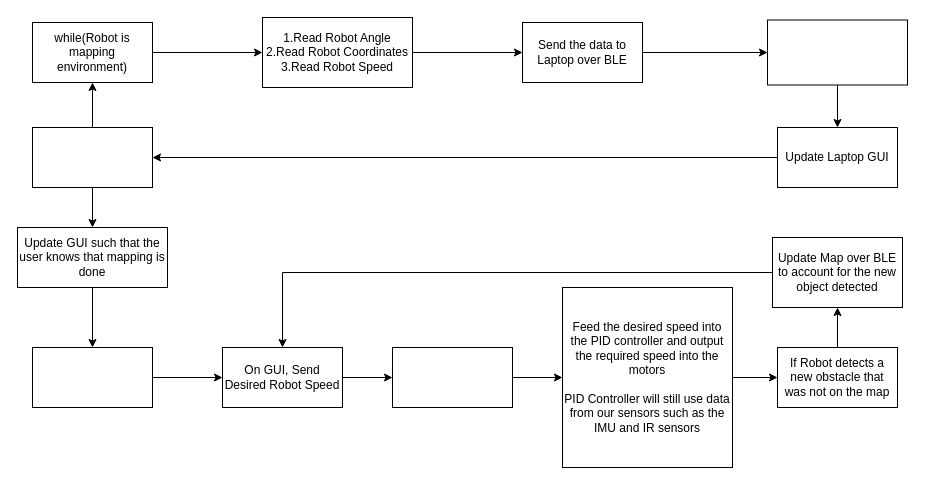
Some shapes in this 925 by 485 pixel diagram are drawn without their labels. Here are the shapes that lost their labels. From the top down, the centre of each, then its label:
pixel 837 52: On the Laptop: Process the data received and update the map
pixel 92 157: If(Mapping Finished)
pixel 92 377: Enable user movement input
pixel 452 377: Send Desired Speed to Robot over BLE
